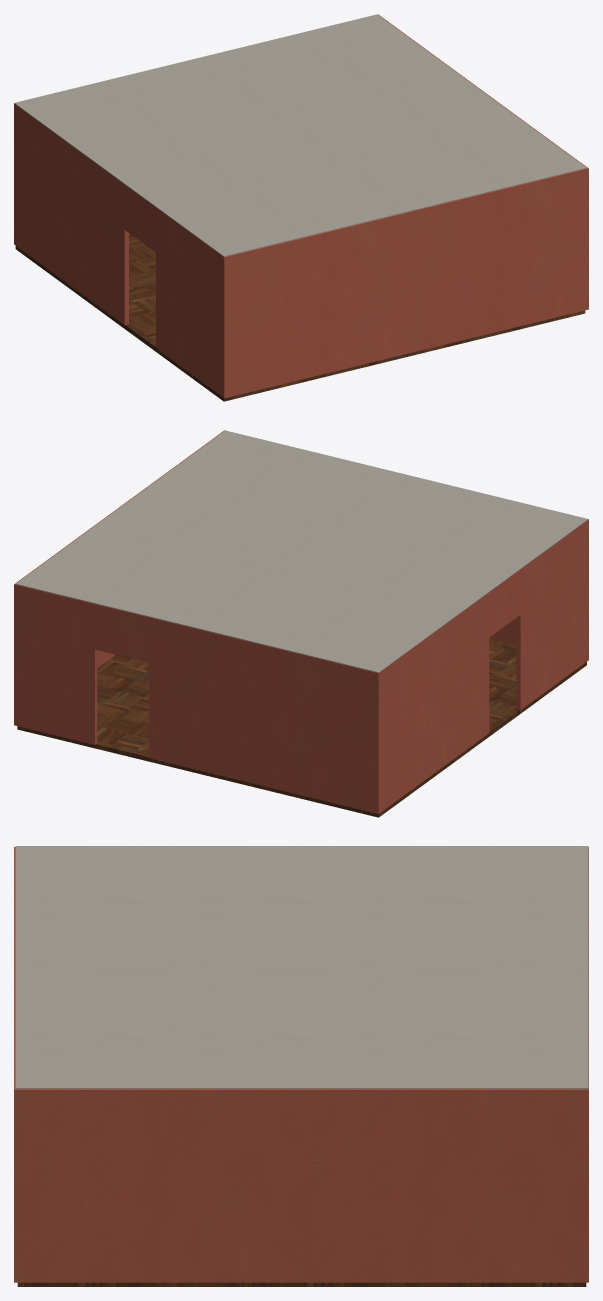
Rendered from kitchen.fbx.
The picture shows the model from 3 angles, top to bottom: view 1: azimuth 30°, elevation 25°; view 2: azimuth 150°, elevation 25°; view 3: azimuth 270°, elevation 25°; orthographic projection. The views are drawn at different scales.
Visible parts, largest first — view 1: kitchenWall, kitchenCeiling, kitchenFloor; view 2: kitchenCeiling, kitchenWall, kitchenFloor; view 3: kitchenCeiling, kitchenWall, kitchenFloor.
Boxes of the visible parts, <box> form: kitchenWall: <box>14,14,588,398</box>; kitchenCeiling: <box>14,14,586,256</box>; kitchenFloor: <box>15,233,585,401</box>; kitchenCeiling: <box>15,430,588,672</box>; kitchenWall: <box>14,430,588,813</box>; kitchenFloor: <box>17,638,586,817</box>; kitchenCeiling: <box>15,846,588,1088</box>; kitchenWall: <box>14,847,588,1282</box>; kitchenFloor: <box>17,1282,586,1286</box>.
Size of the model in its own units: 864 by 331 by 864.
